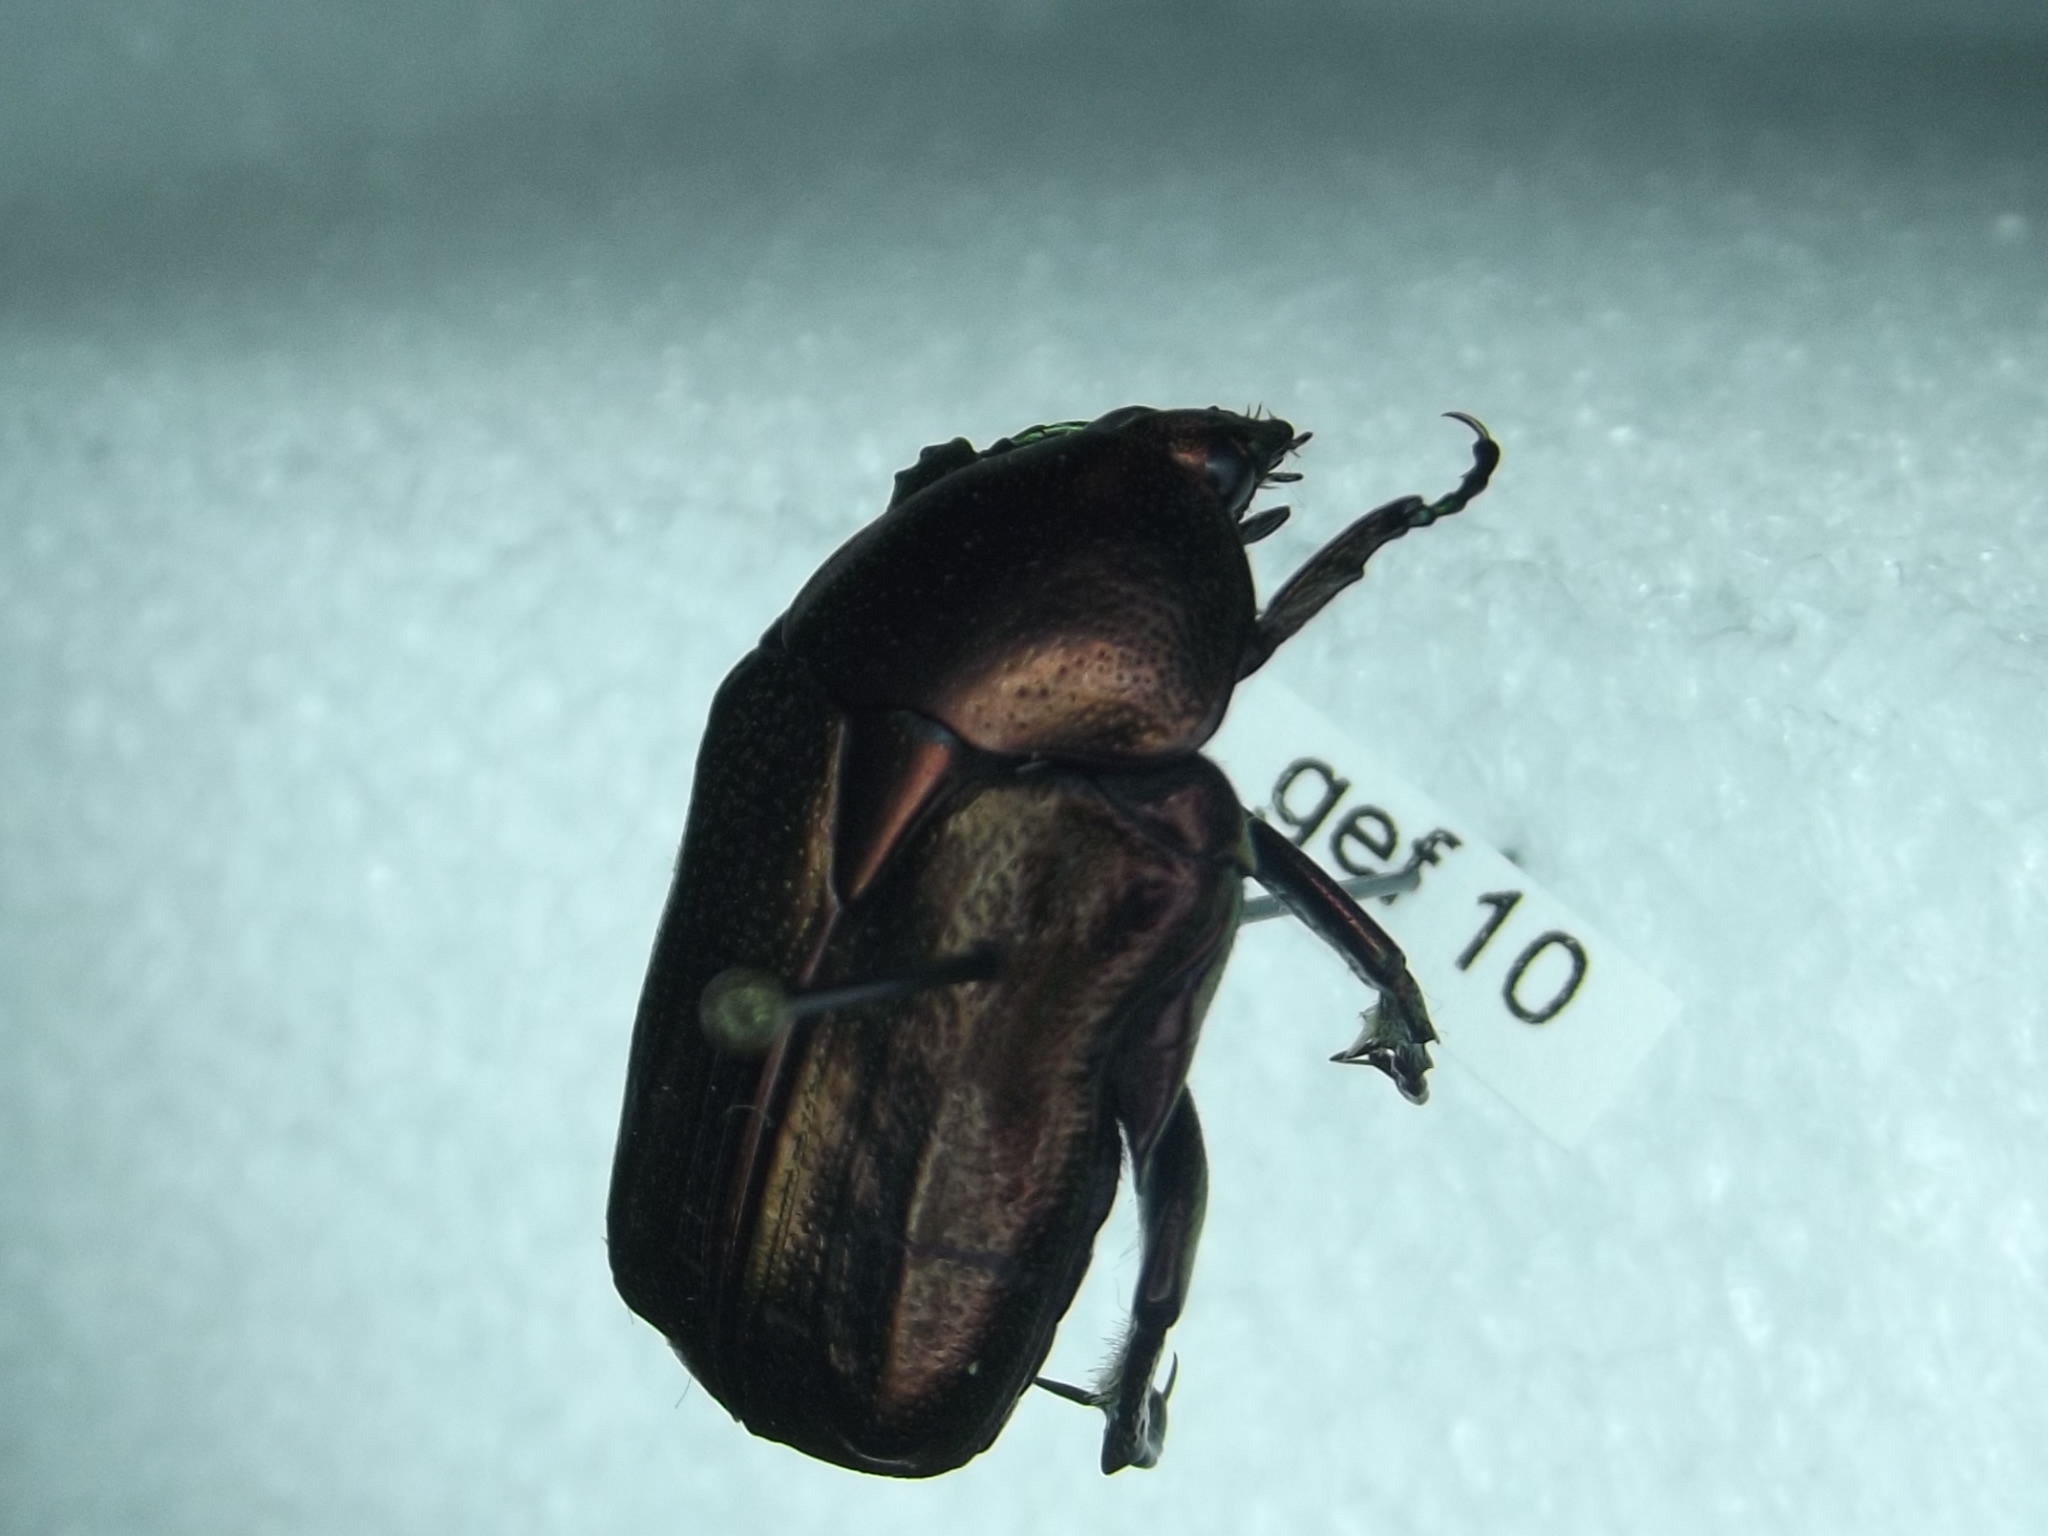Cetonia_aurata: (576, 340, 1519, 1494)
